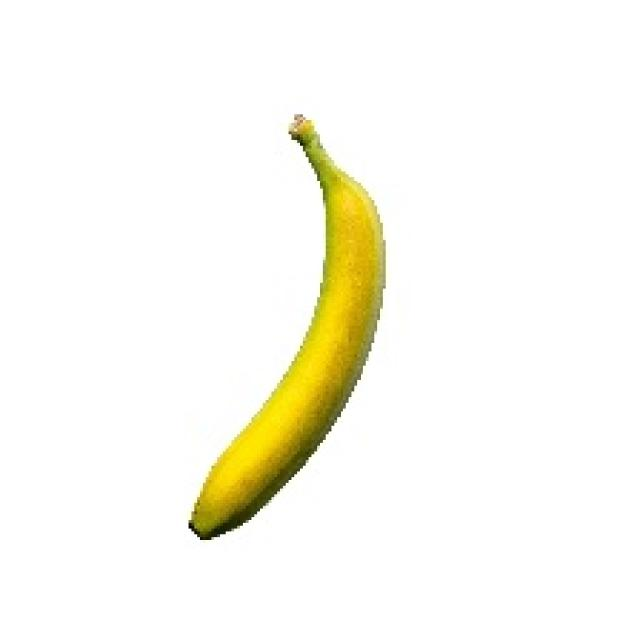Banana: (186, 111, 386, 540)
